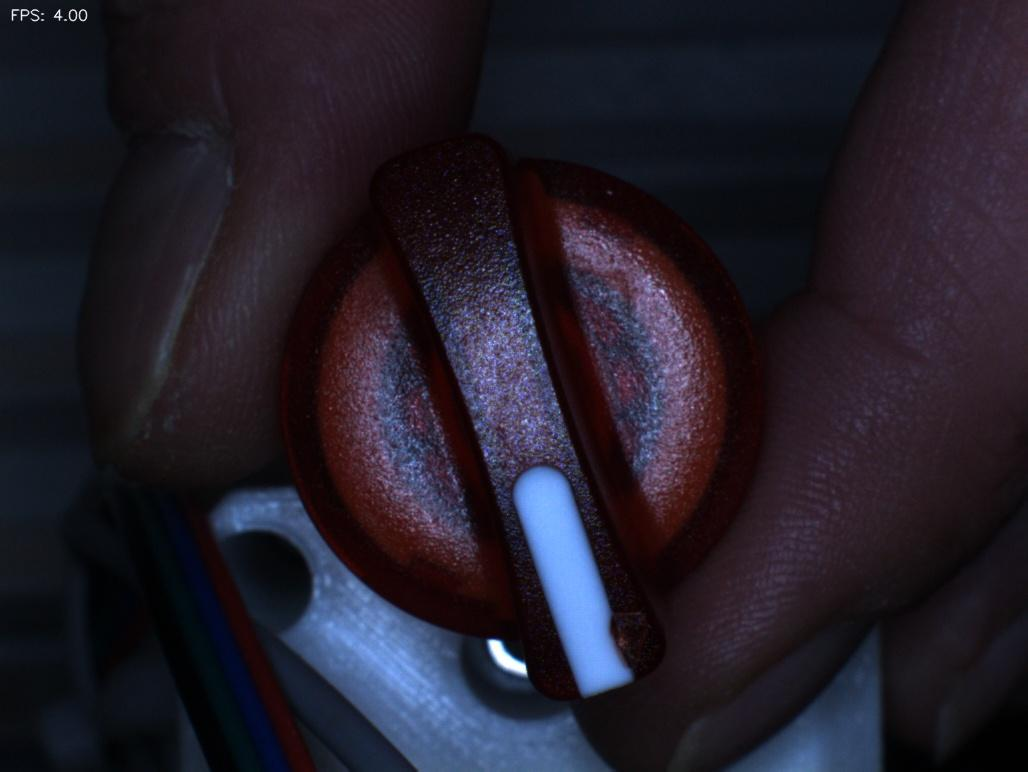Choc: (580, 577, 679, 675)
